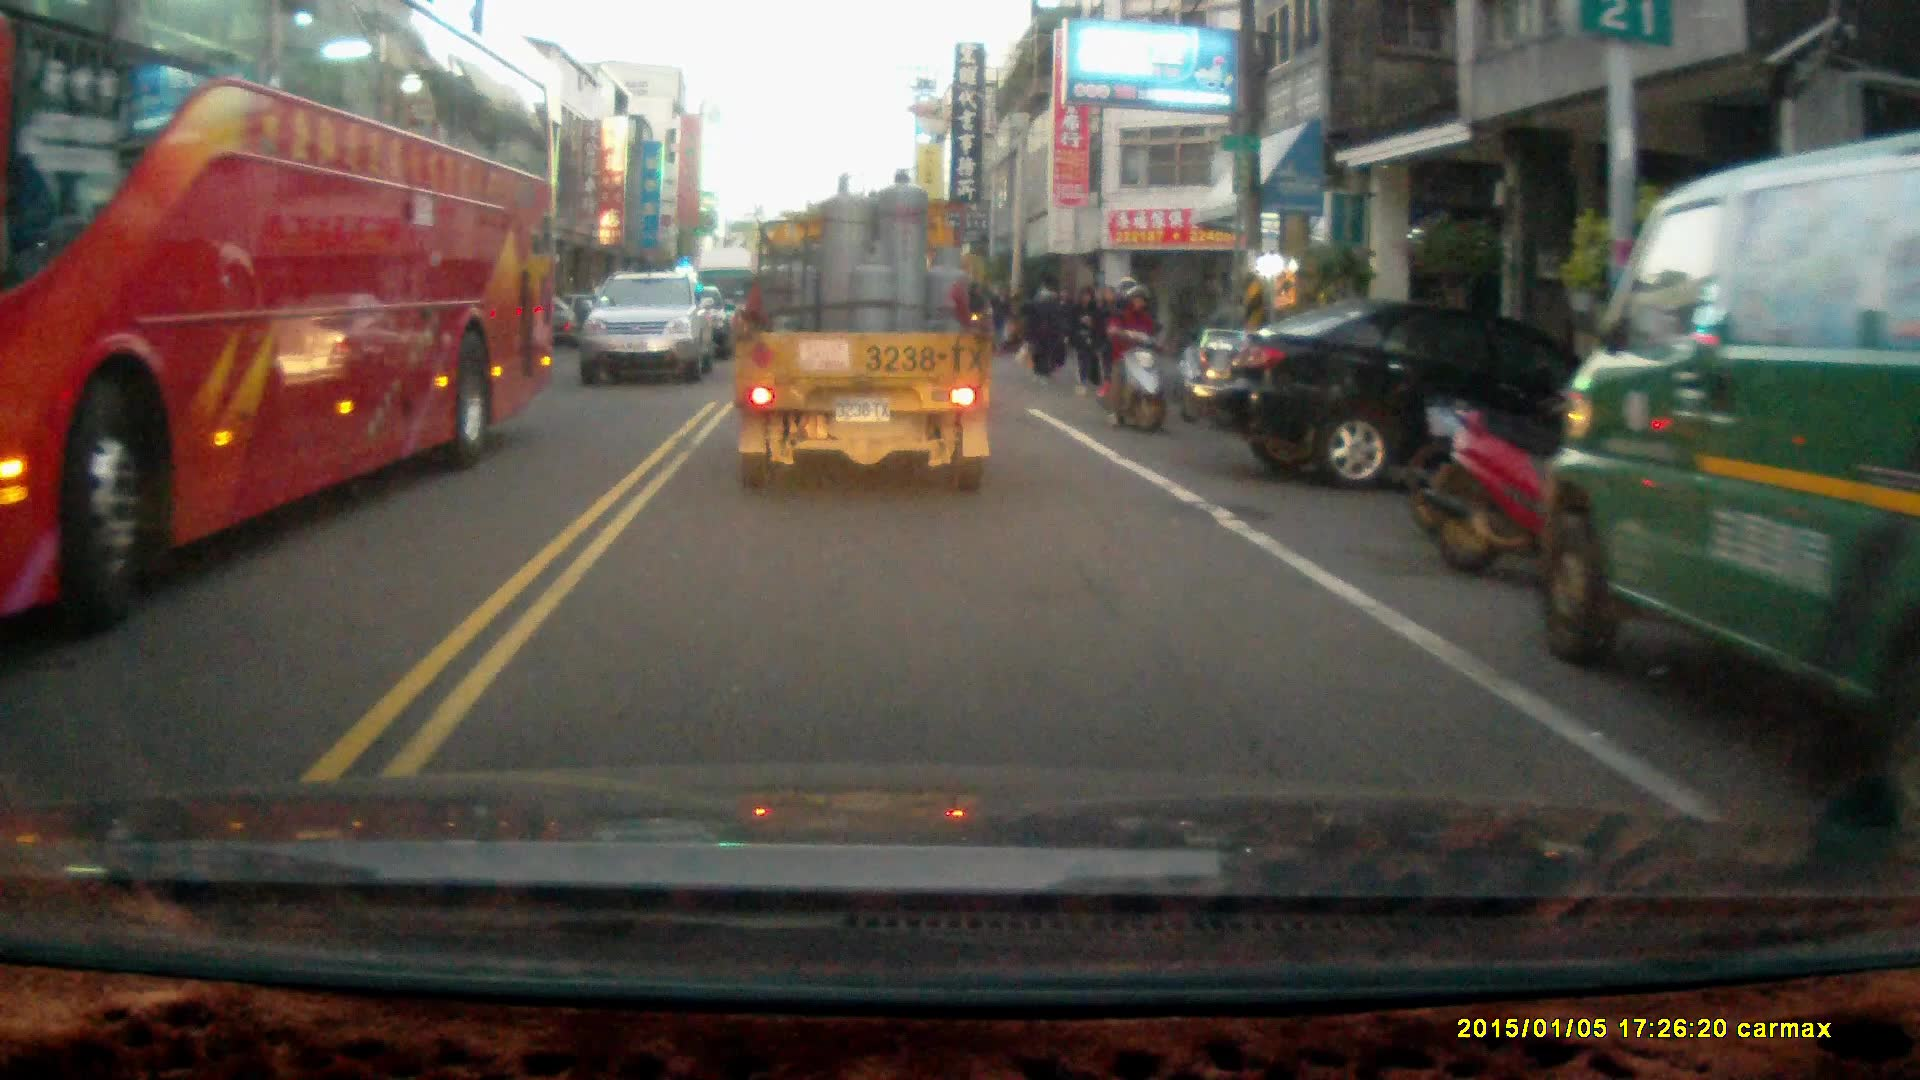pedestrian: (1067, 282, 1107, 397), (1022, 282, 1061, 380), (988, 287, 1012, 357)
rider: (1101, 274, 1167, 434)
vehicle: (1, 7, 565, 647), (1541, 129, 1920, 760), (729, 165, 999, 497), (1178, 302, 1654, 489), (580, 271, 715, 385)
